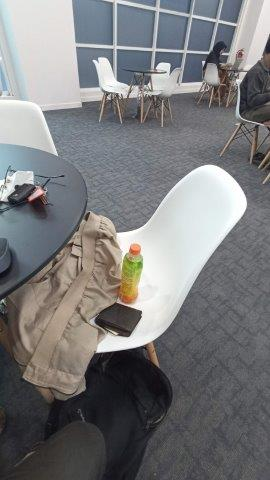botolplastik: (119, 244, 144, 304)
